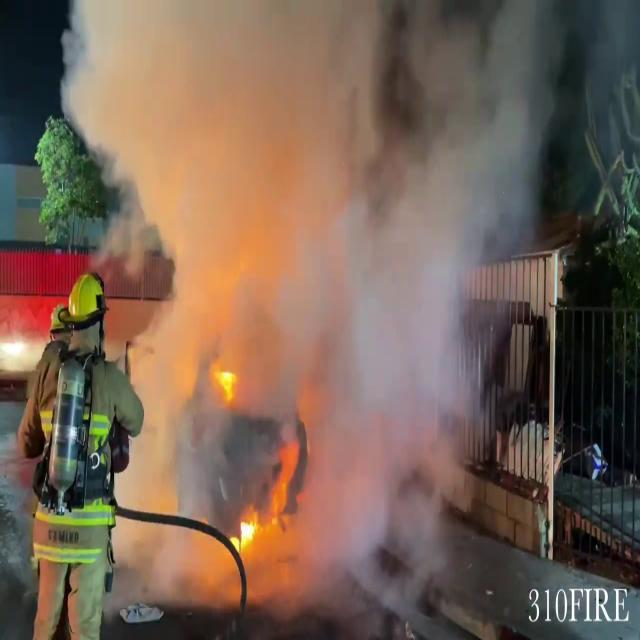Smoke: (58, 0, 623, 616)
